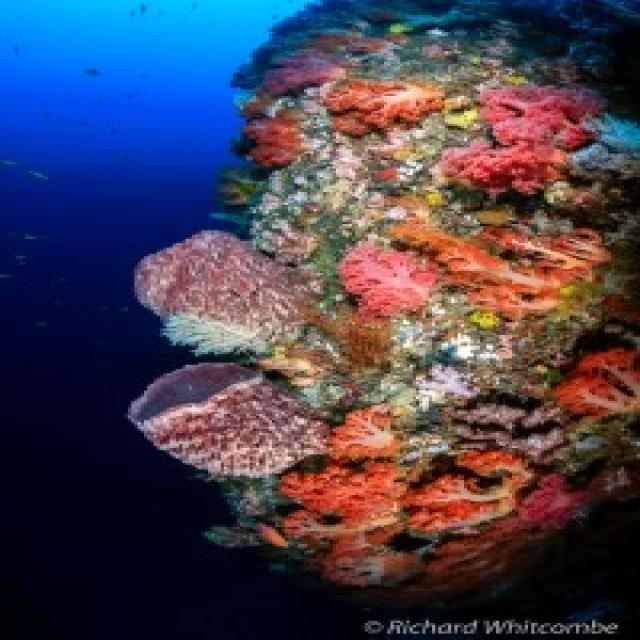Healthy: (129, 364, 327, 477), (135, 231, 311, 355), (443, 86, 599, 195), (391, 225, 558, 317), (407, 451, 532, 532), (283, 460, 404, 530), (340, 242, 436, 317), (321, 78, 446, 135), (481, 229, 606, 278), (558, 351, 638, 415), (519, 475, 590, 528), (331, 404, 398, 458)
